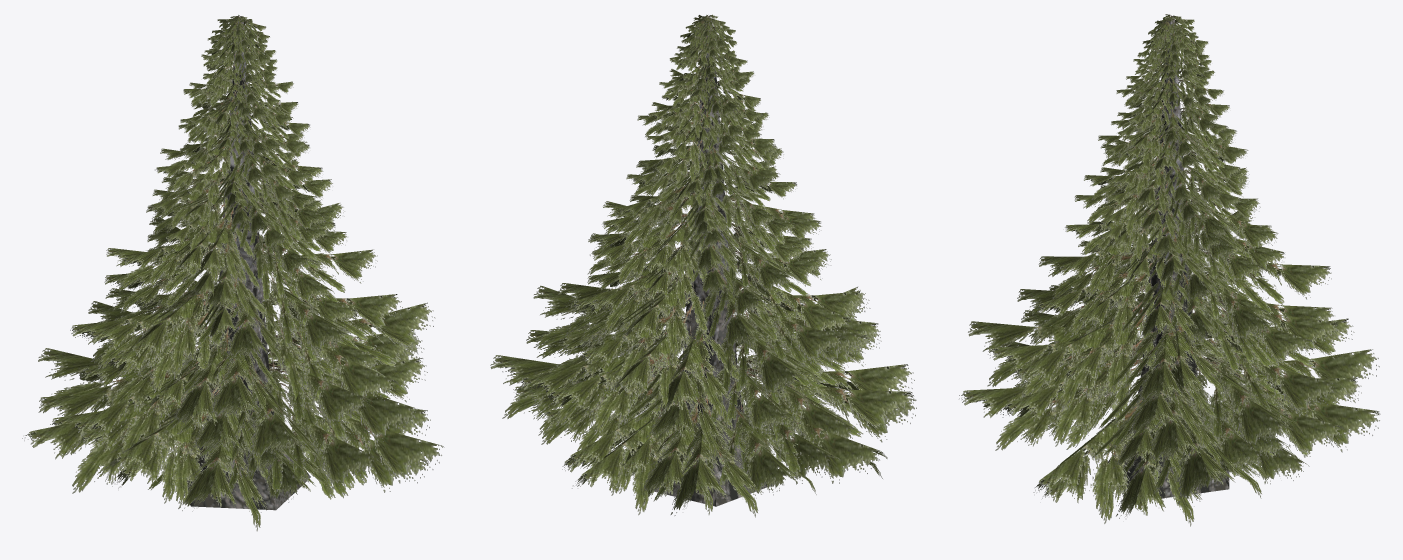
File: pineTreeLarge.fbx
The picture shows the model from 3 angles, left to right: view 1: azimuth 30°, elevation 25°; view 2: azimuth 150°, elevation 25°; view 3: azimuth 270°, elevation 25°; orthographic projection. The views are drawn at different scales.
Visible parts, largest first — view 1: pineTree1; view 2: pineTree1; view 3: pineTree1.
Part boxes in pixels (x1,y1,x2,y2): pineTree1: (22,15,444,531); pineTree1: (490,14,916,517); pineTree1: (959,14,1380,526).
Size of the model in its own units: 208 by 197 by 231.
2 materials, 2 textured.
